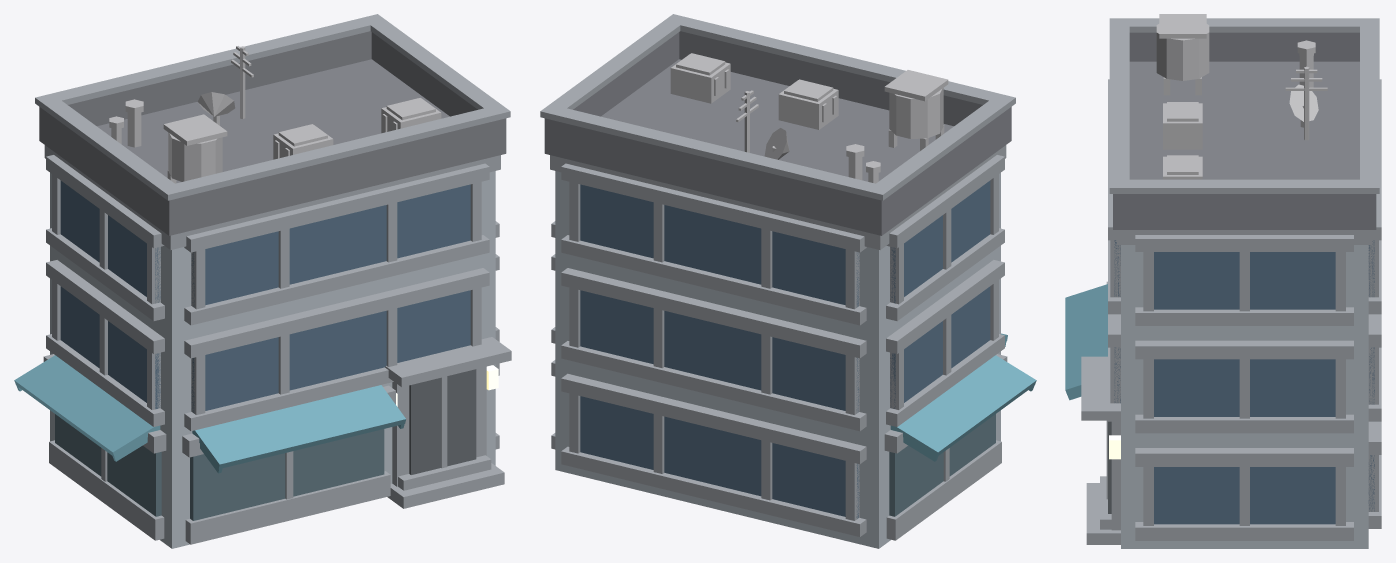
Rendered from bld_1_1.glb.
The picture shows the model from 3 angles, left to right: view 1: azimuth 30°, elevation 25°; view 2: azimuth 150°, elevation 25°; view 3: azimuth 270°, elevation 25°; orthographic projection.
Visible parts, largest first — view 1: trim, rf, win, w, awn, shop, ac, door; view 2: trim, win, rf, w, ac, awn, shop; view 3: trim, rf, win, w, ac, awn.
Part boxes in pixels (x1=…): trim: x1=35, y1=14, x2=511, y2=544; rf: x1=39, y1=31, x2=506, y2=235; win: x1=60, y1=180, x2=470, y2=413; w: x1=50, y1=171, x2=495, y2=548; awn: x1=14, y1=355, x2=405, y2=473; shop: x1=55, y1=414, x2=384, y2=520; ac: x1=109, y1=46, x2=441, y2=183; door: x1=409, y1=369, x2=476, y2=474; trim: x1=540, y1=14, x2=1015, y2=540; win: x1=580, y1=180, x2=990, y2=518; rf: x1=544, y1=31, x2=1011, y2=235; w: x1=555, y1=171, x2=1000, y2=548; ac: x1=670, y1=53, x2=948, y2=183; awn: x1=890, y1=333, x2=1036, y2=461; shop: x1=889, y1=414, x2=995, y2=516; trim: x1=1081, y1=18, x2=1381, y2=544; rf: x1=1113, y1=32, x2=1376, y2=229; win: x1=1114, y1=240, x2=1374, y2=524; w: x1=1121, y1=245, x2=1368, y2=548; ac: x1=1156, y1=14, x2=1327, y2=179; awn: x1=1065, y1=284, x2=1107, y2=400.
Size of the model in its own units: 3.4 by 3.36 by 2.4.
